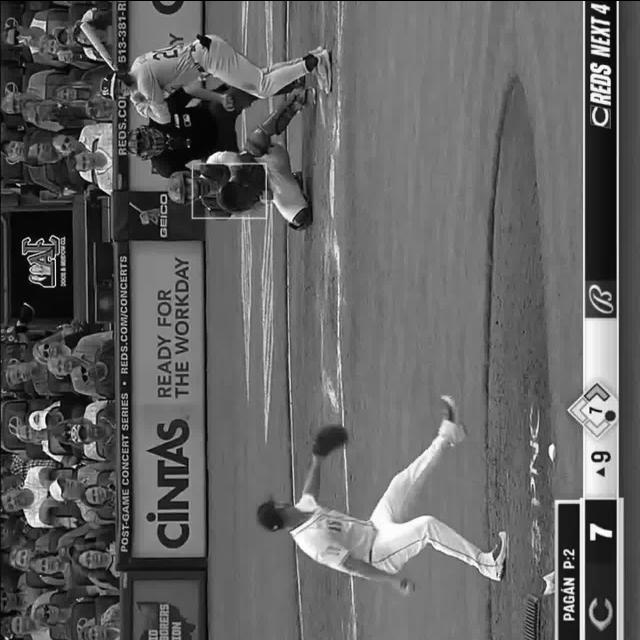base: (324, 152, 336, 222)
baseball: (402, 582, 414, 592)
baseball_glove: (312, 424, 348, 457), (219, 177, 252, 212)
bat: (76, 20, 120, 70)
shoe: (438, 392, 469, 442), (305, 44, 331, 96), (484, 529, 510, 578)
